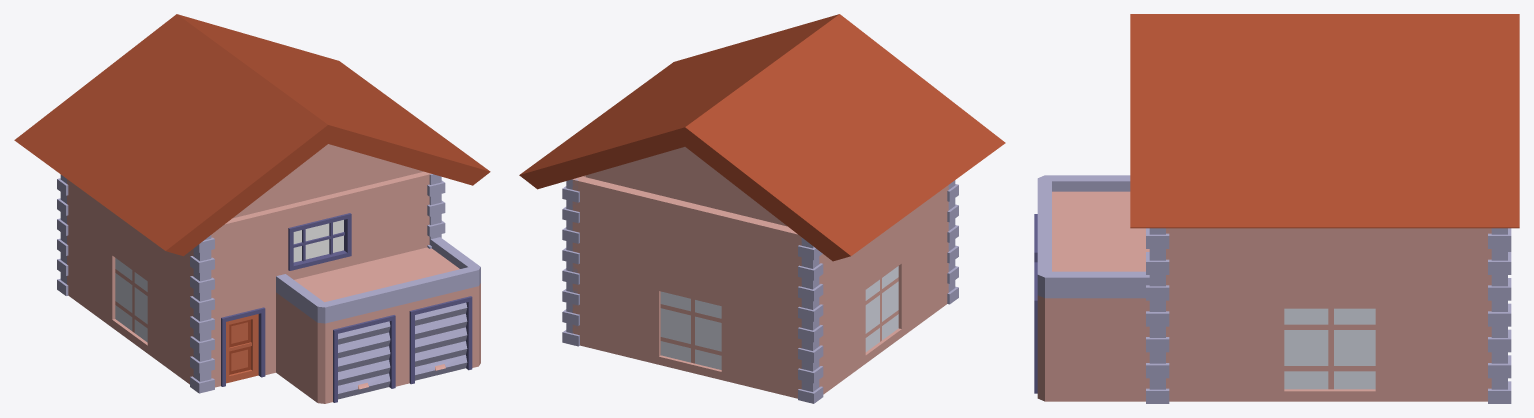
Rendered from House 1.dae.
The picture shows the model from 3 angles, left to right: view 1: azimuth 30°, elevation 25°; view 2: azimuth 150°, elevation 25°; view 3: azimuth 270°, elevation 25°; orthographic projection. The views are drawn at different scales.
Visible parts, largest first — view 1: roof, wall (×8), doorway_wideGarageRoll (×2), roof_flatCorner (×2), window_decorativeLarge, quoin_detailed (×4), doorway_doorSolid, wall_window; view 2: roof, wall (×10), wall_window (×2), quoin_detailed (×5); view 3: roof, wall (×6), roof_flatCorner (×2), wall_window, quoin_detailed (×4), doorway_wideGarageRoll.
Boxes of the visible parts, left/top/right/bottom form: roof: left=14, top=14, right=490, bottom=256; wall (×8): left=67, top=171, right=431, bottom=403; doorway_wideGarageRoll (×2): left=317, top=283, right=480, bottom=403; roof_flatCorner (×2): left=276, top=237, right=480, bottom=323; window_decorativeLarge: left=276, top=188, right=359, bottom=279; quoin_detailed (×4): left=57, top=174, right=445, bottom=393; doorway_doorSolid: left=211, top=292, right=275, bottom=387; wall_window: left=107, top=244, right=151, bottom=356; roof: left=519, top=14, right=1005, bottom=261; wall (×10): left=572, top=176, right=948, bottom=398; wall_window (×2): left=651, top=252, right=906, bottom=381; quoin_detailed (×5): left=562, top=178, right=958, bottom=403; roof: left=1130, top=14, right=1519, bottom=228; wall (×6): left=1037, top=228, right=1491, bottom=401; roof_flatCorner (×2): left=1037, top=175, right=1149, bottom=298; wall_window: left=1273, top=298, right=1386, bottom=401; quoin_detailed (×4): left=1146, top=228, right=1511, bottom=403; doorway_wideGarageRoll: left=1034, top=262, right=1044, bottom=401.
Bounding box in the file's own units: 4.23 × 3.03 × 4.26.
